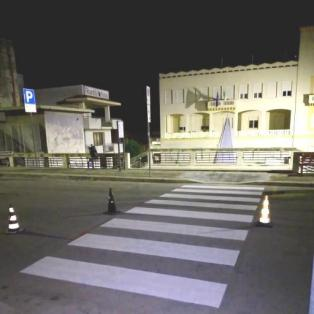Paso de Cebra: (57, 216, 253, 268), (155, 187, 270, 204)
